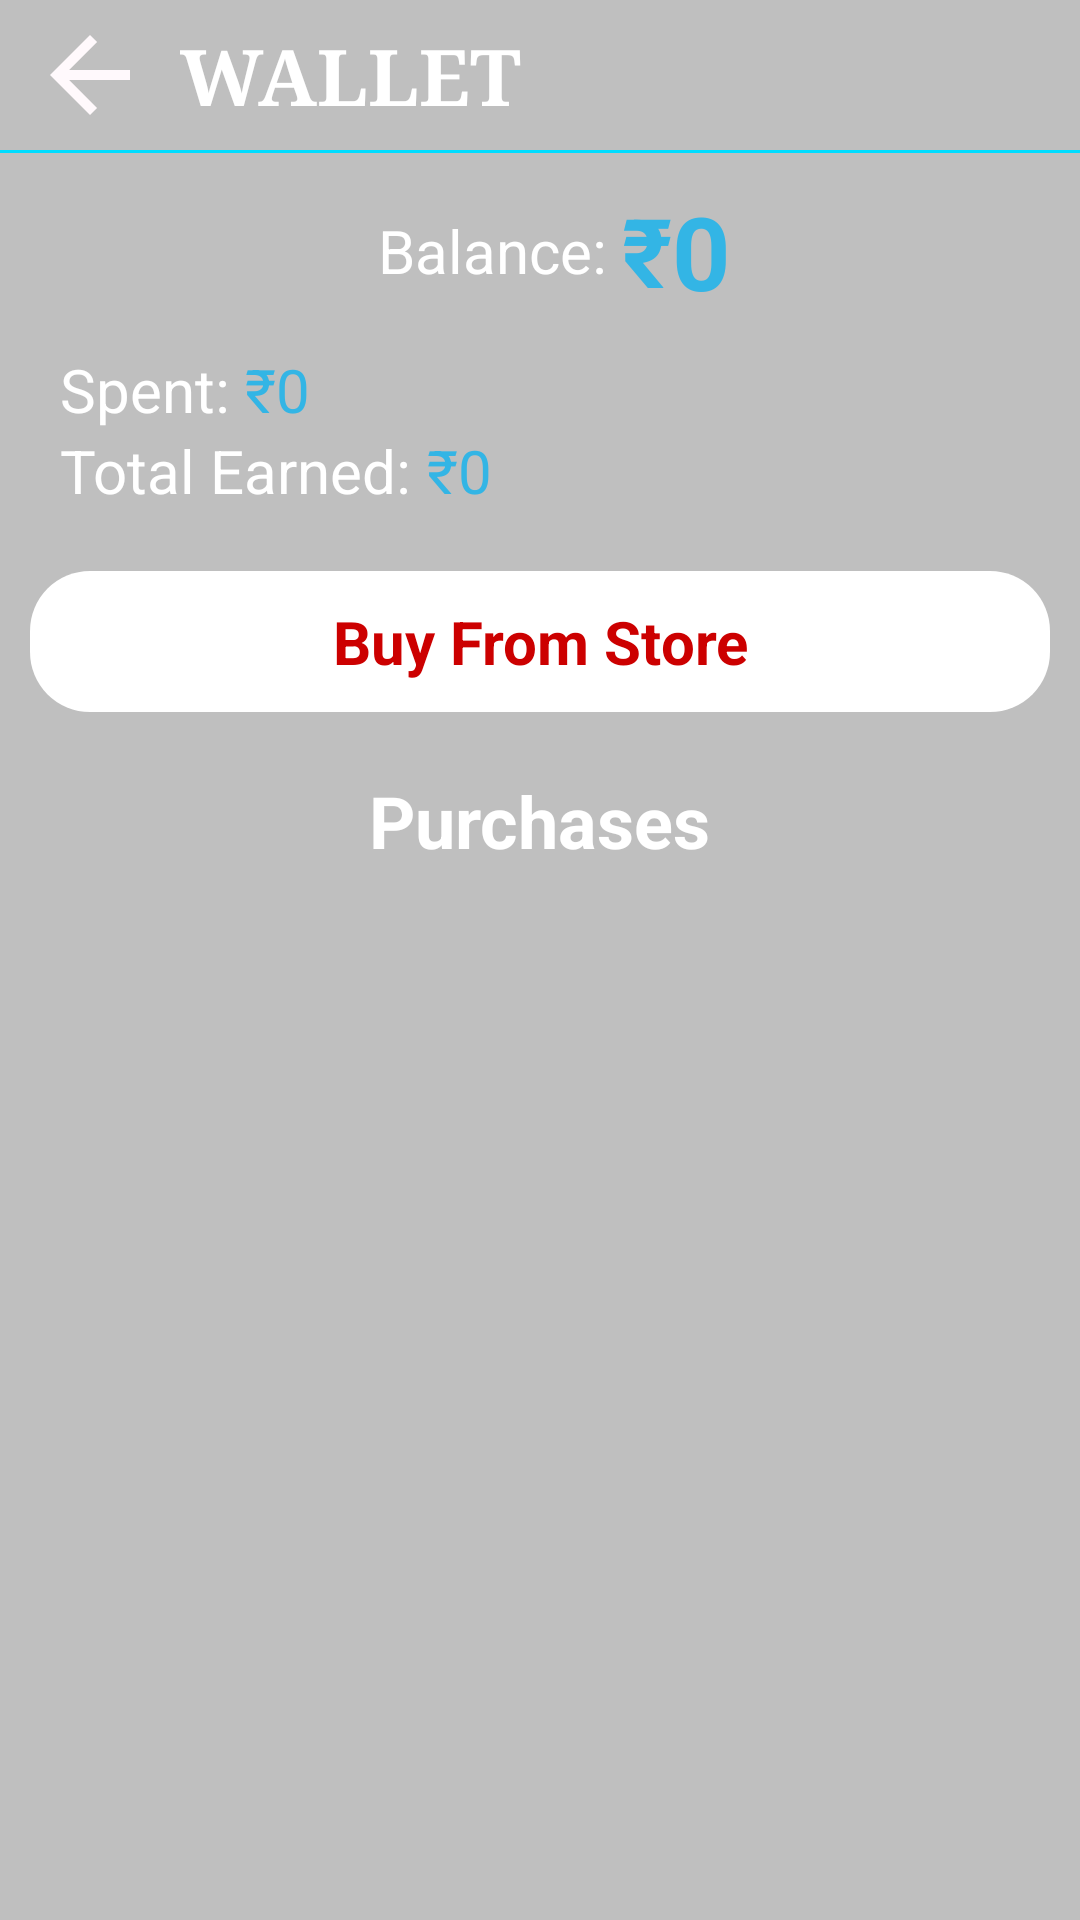

Screen size 1080px×1920px. Icon name, then its center in pixels as point (x, y):
back arrow: point (90, 75)
